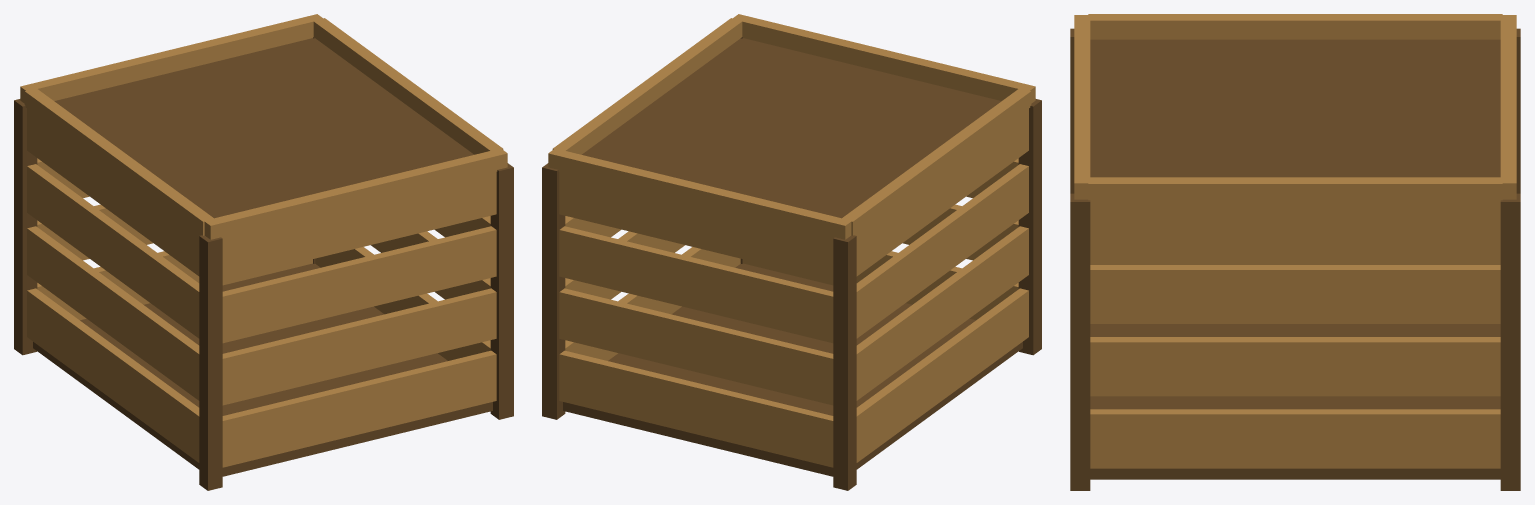
The model's file is sh_produce.glb.
The picture shows the model from 3 angles, left to right: view 1: azimuth 30°, elevation 25°; view 2: azimuth 150°, elevation 25°; view 3: azimuth 270°, elevation 25°; orthographic projection. The views are drawn at different scales.
Parts seen in each view (by area): view 1: fb, deck; view 2: fb, deck; view 3: fb, deck.
Part boxes in pixels (bbox=[...]): fb: bbox=[20, 14, 507, 467]; deck: bbox=[14, 37, 513, 490]; fb: bbox=[548, 14, 1035, 467]; deck: bbox=[542, 37, 1041, 490]; fb: bbox=[1074, 14, 1516, 468]; deck: bbox=[1070, 28, 1520, 490].
Bounding box in the file's own units: 1.03 × 0.845 × 1.13.
